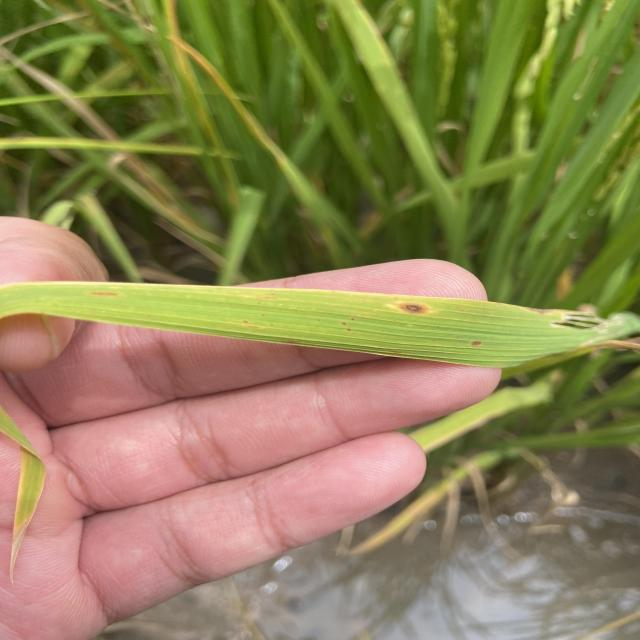Dao on: (387, 300, 435, 316)
